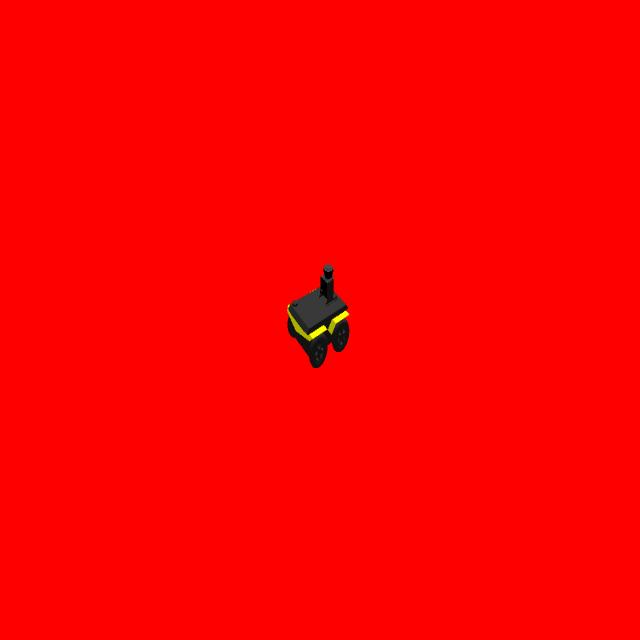jackal: (286, 260, 351, 369)
